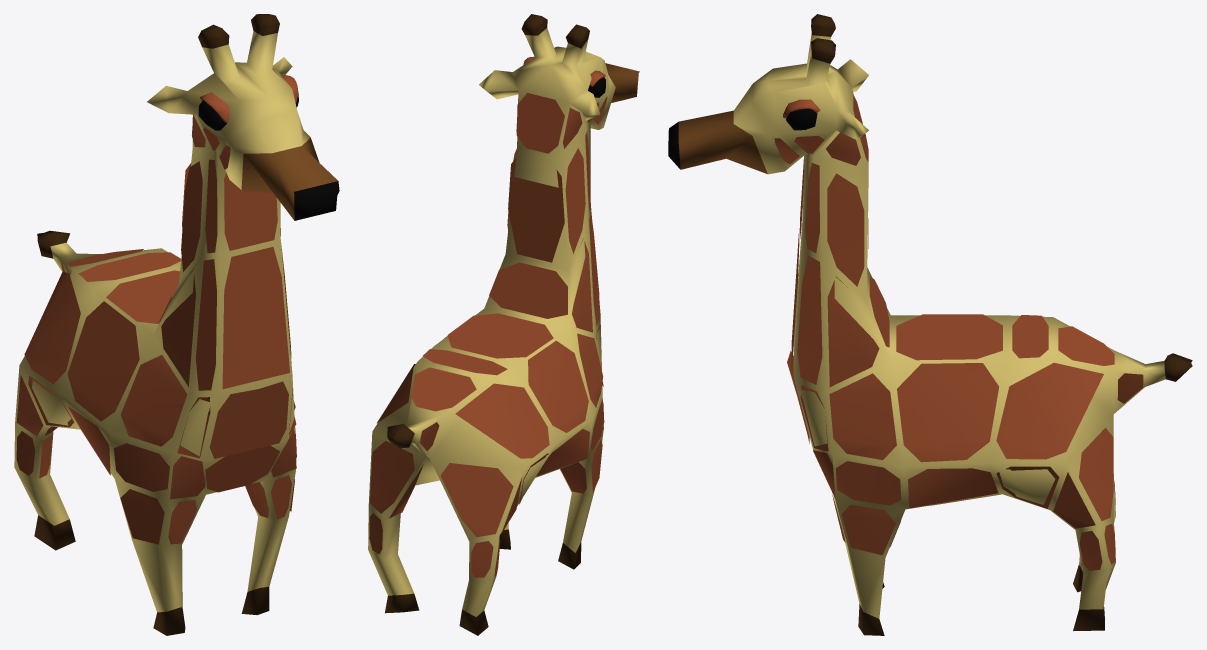
File: Jiraffe_S.fbx
3 views of the same model, side by side, from view 1: azimuth 30°, elevation 25°; view 2: azimuth 150°, elevation 25°; view 3: azimuth 270°, elevation 25° (orthographic). The views are drawn at different scales.
Parts seen in each view (by area): view 1: Jiraffe11; view 2: Jiraffe11; view 3: Jiraffe11.
Part boxes in pixels (x1,y1,x2,y2): Jiraffe11: (14, 14, 339, 635); Jiraffe11: (368, 14, 639, 635); Jiraffe11: (668, 14, 1192, 635).
Size of the model in its own units: 170 by 554 by 451.
